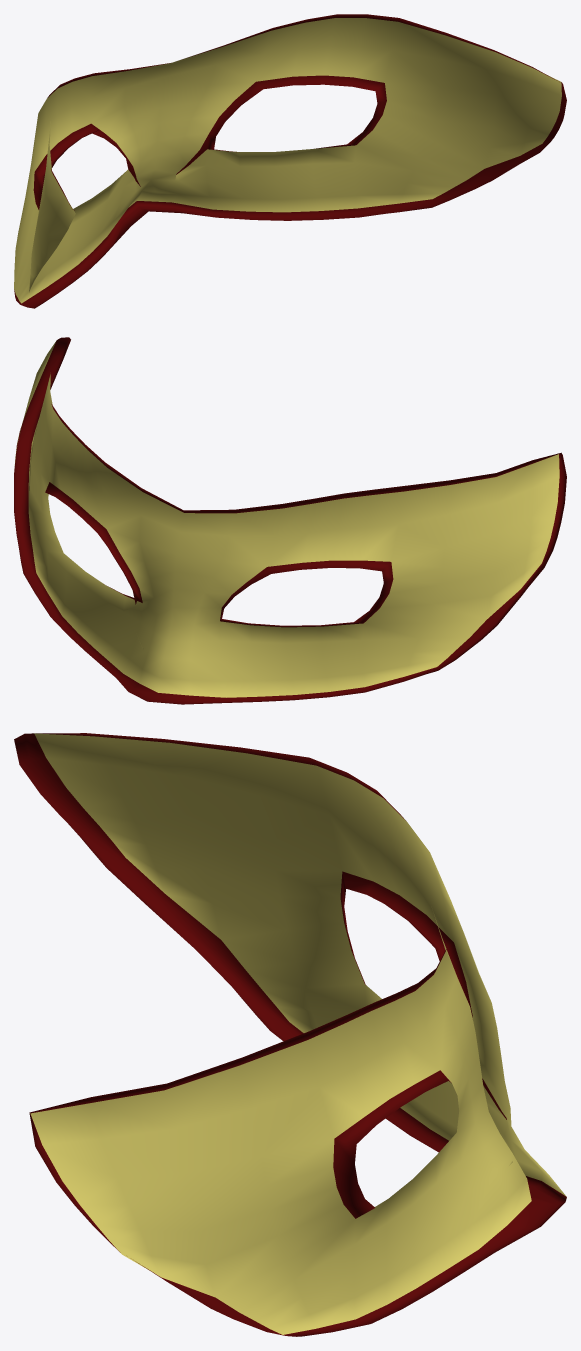
Rendered from mask_carnival.glb.
3 renders of one model, top to bottom at view 1: azimuth 30°, elevation 25°; view 2: azimuth 150°, elevation 25°; view 3: azimuth 270°, elevation 25°, orthographic. The views are drawn at different scales.
Visible parts, largest first — view 1: Sphere_2; view 2: Sphere_2; view 3: Sphere_2.
Boxes of the visible parts, x1,y1,x2,y2 form: Sphere_2: (14, 14, 566, 308); Sphere_2: (14, 337, 566, 704); Sphere_2: (14, 733, 566, 1336).
Bounding box in the file's own units: 0.166 × 0.0621 × 0.0966.
